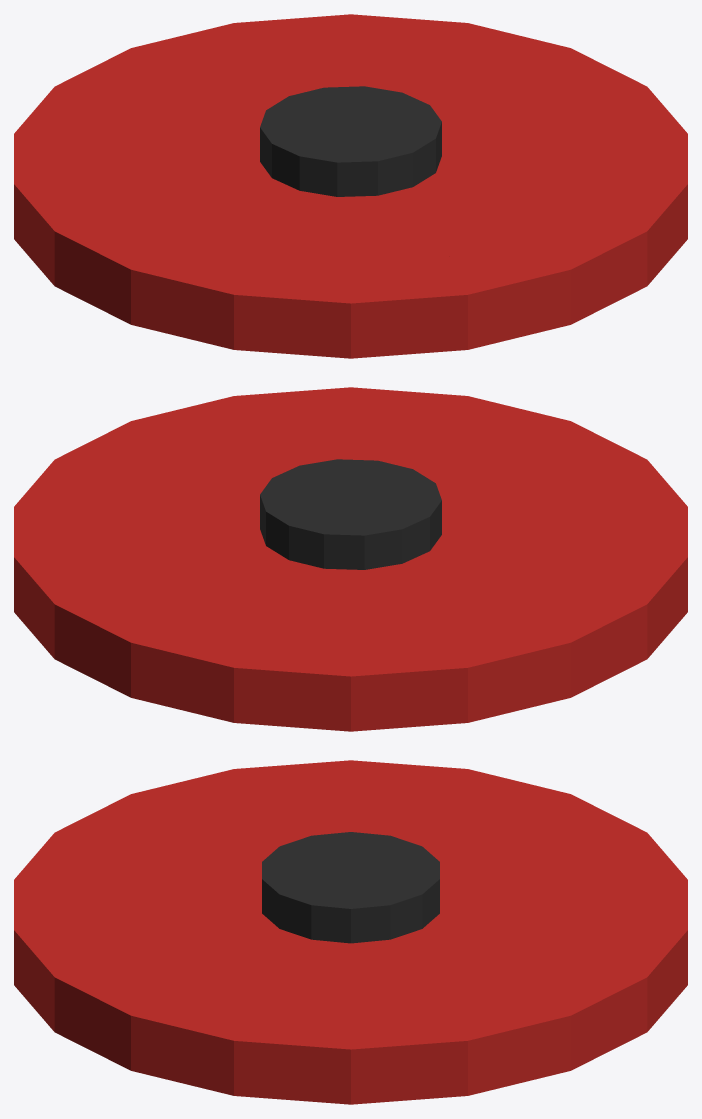
The model's file is valve_wheel.dae.
3 renders of one model, top to bottom at view 1: azimuth 30°, elevation 25°; view 2: azimuth 150°, elevation 25°; view 3: azimuth 270°, elevation 25°, orthographic.
Parts seen in each view (by area): view 1: rim, hub, spoke_a, spoke_b; view 2: rim, hub, spoke_a, spoke_b; view 3: rim, hub, spoke_b, spoke_a.
Part boxes in pixels (box(x1,y1,x2,y2)): rim: box(14, 14, 687, 358); hub: box(260, 86, 441, 196); spoke_a: box(66, 82, 634, 235); spoke_b: box(172, 38, 526, 279); rim: box(14, 387, 687, 731); hub: box(260, 459, 441, 569); spoke_a: box(68, 456, 635, 608); spoke_b: box(180, 411, 531, 652); rim: box(14, 760, 687, 1104); hub: box(262, 832, 439, 943); spoke_b: box(39, 892, 662, 917); spoke_a: box(320, 773, 381, 1036).
Bounding box in the file's own units: 0.9 × 0.8863 × 0.18.
